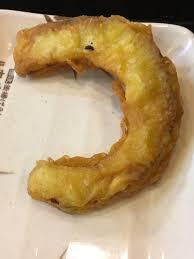pumpkin: (17, 16, 178, 217)
